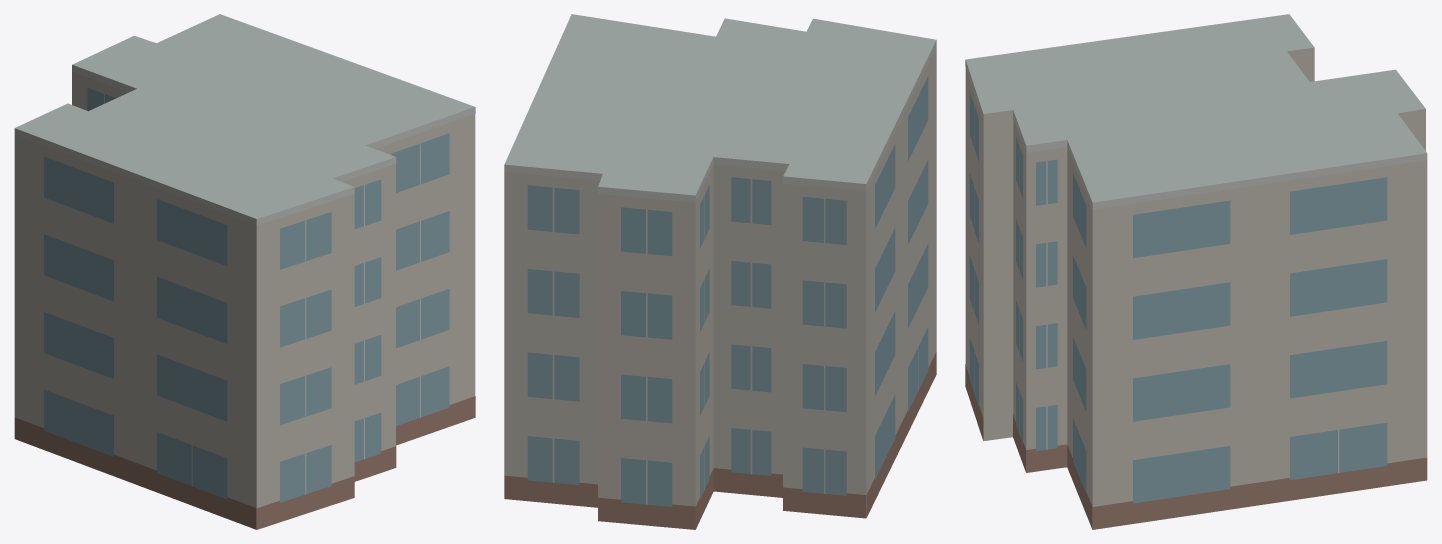
Rendered from survey-upis-33000383.glb.
The picture shows the model from 3 angles, left to right: view 1: azimuth 30°, elevation 25°; view 2: azimuth 150°, elevation 25°; view 3: azimuth 270°, elevation 25°; orthographic projection. The views are drawn at different scales.
Parts seen in each view (by area): view 1: survey-upis-33000383.tmp; view 2: survey-upis-33000383.tmp; view 3: survey-upis-33000383.tmp.
Boxes of the visible parts, left/top/right/bottom form: survey-upis-33000383.tmp: left=14, top=14, right=475, bottom=529; survey-upis-33000383.tmp: left=504, top=14, right=936, bottom=529; survey-upis-33000383.tmp: left=965, top=14, right=1427, bottom=529.
Size of the model in its own units: 14.11 by 11.4 by 14.6.
